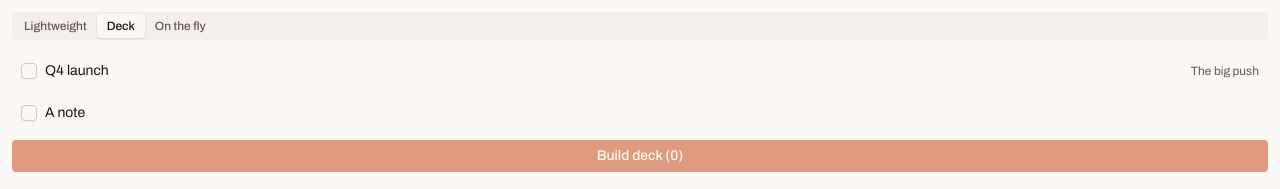
Test case: PresentPane — Deck mode › unchecking a node removes it from the selection, disabling Build again
The width and height of the screenshot is (1280, 189).
Click the checkbox named "Q4 launch" next to "Q4 launch".
click(29, 71)  # box left=21, top=63, right=37, bottom=79
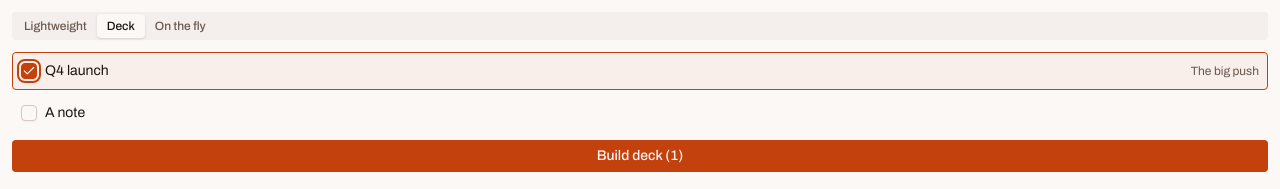
Check: the button "Build deck (1)" is enabled, box left=12, top=140, right=1268, bottom=172
Uncheck — exercises toggleNode's `delete` branch, not just `add`.
Click the checkbox named "Q4 launch" next to "Q4 launch".
click(29, 71)  # box left=21, top=63, right=37, bottom=79
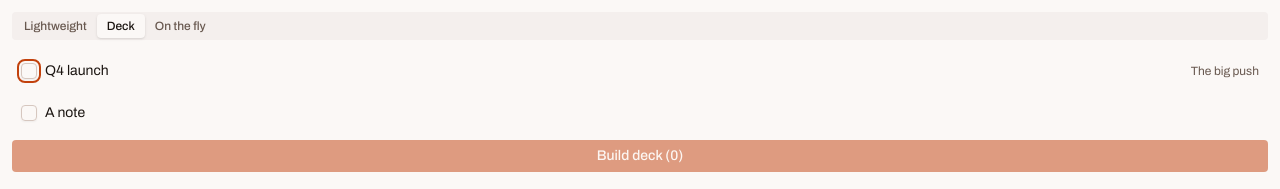
Check: the button "Build deck (0)" is disabled, box left=12, top=140, right=1268, bottom=172
